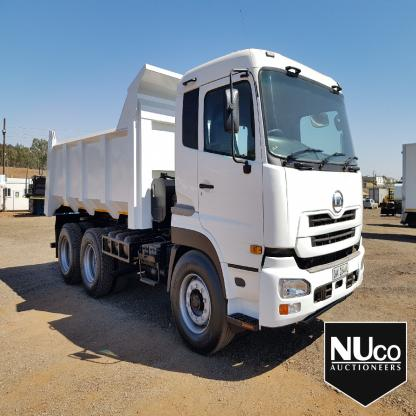dump_truck: (44, 41, 371, 357)
